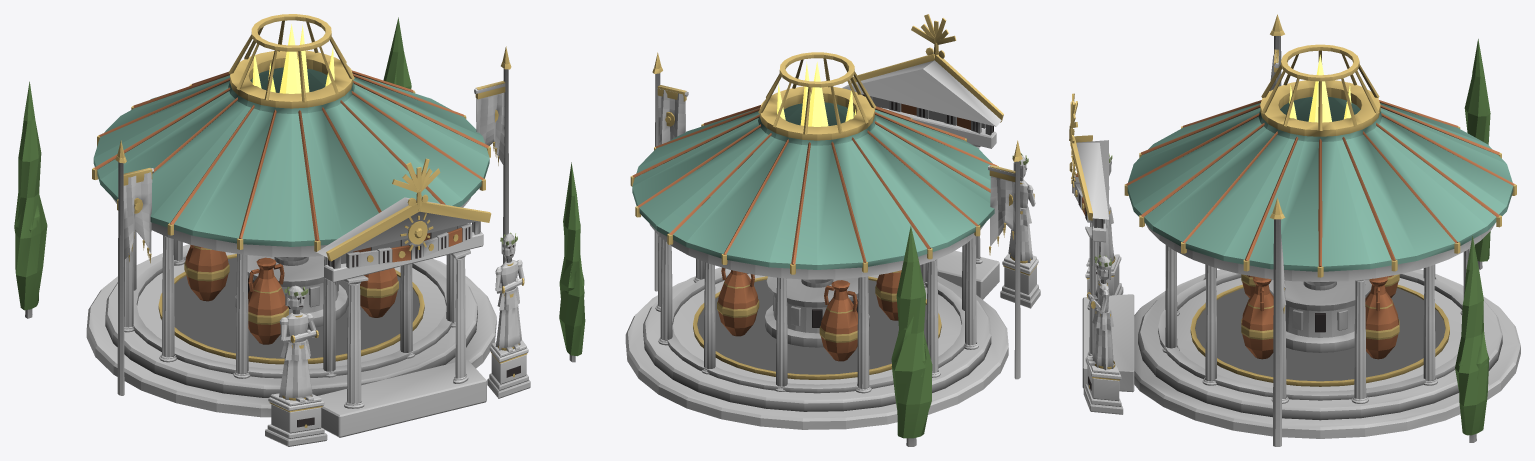
The model's file is sacred-fire-l3.glb.
3 views of the same model, side by side, from view 1: azimuth 30°, elevation 25°; view 2: azimuth 150°, elevation 25°; view 3: azimuth 270°, elevation 25° (orthographic). The views are drawn at different scales.
Visible parts, largest first — view 1: sacred-fire-l3; view 2: sacred-fire-l3; view 3: sacred-fire-l3.
Part boxes in pixels (x1,y1,x2,y2): sacred-fire-l3: [14, 14, 530, 446]; sacred-fire-l3: [559, 14, 1040, 446]; sacred-fire-l3: [1069, 14, 1520, 446].
Bounding box in the file's own units: 1.48 × 1.09 × 1.49.
